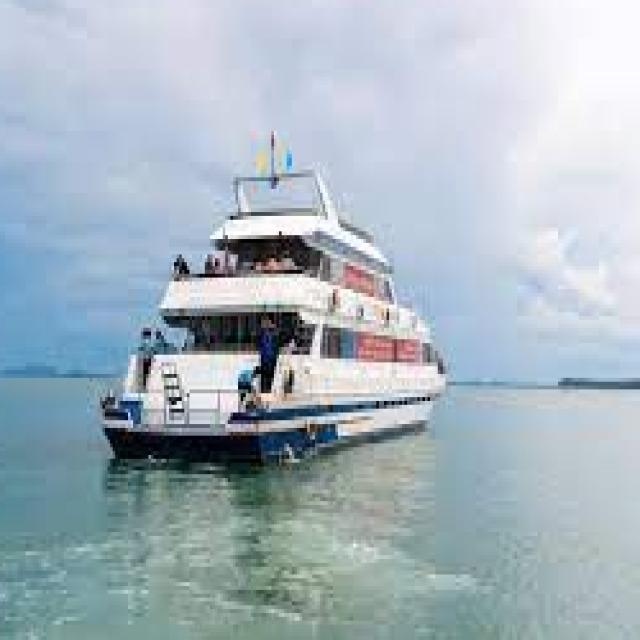houseboat: (100, 144, 452, 463)
